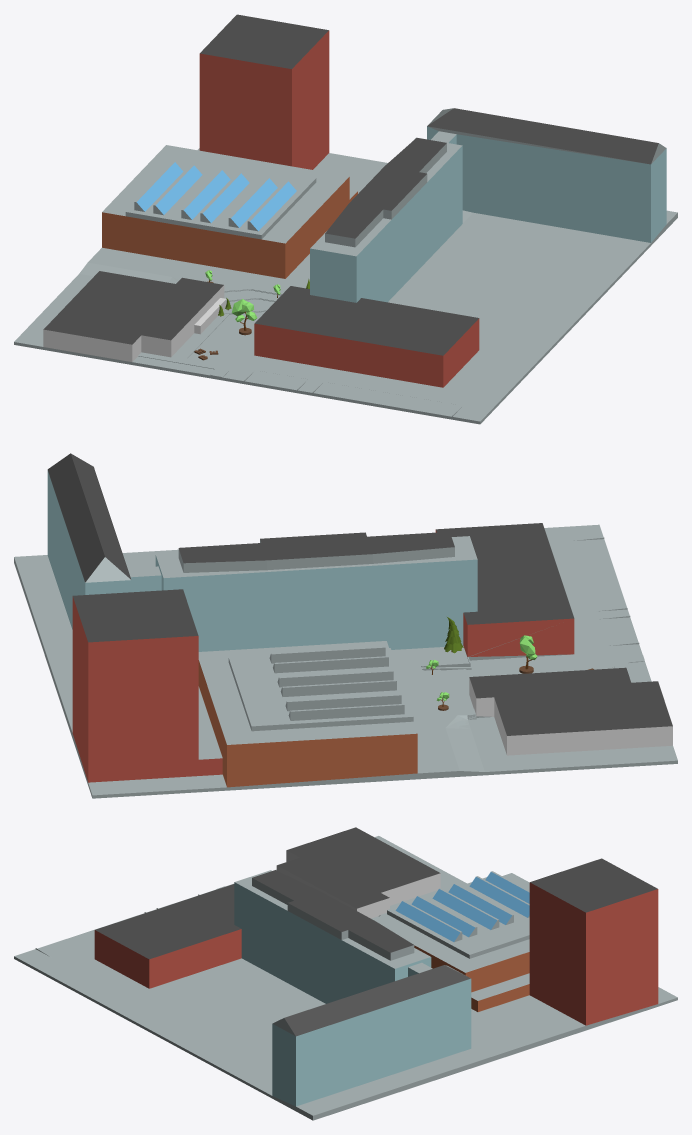
Rendered from gazebo.dae.
The picture shows the model from 3 angles, top to bottom: view 1: azimuth 30°, elevation 25°; view 2: azimuth 150°, elevation 25°; view 3: azimuth 270°, elevation 25°; orthographic projection. The views are drawn at different scales.
Visible parts, largest first — view 1: Gazebo World; view 2: Gazebo World; view 3: Gazebo World.
Part boxes in pixels (x1,y1,x2,y2): Gazebo World: (14,14,677,424); Gazebo World: (14,453,677,798); Gazebo World: (14,827,677,1120).
Bounding box in the file's own units: 226 × 225 × 44.
